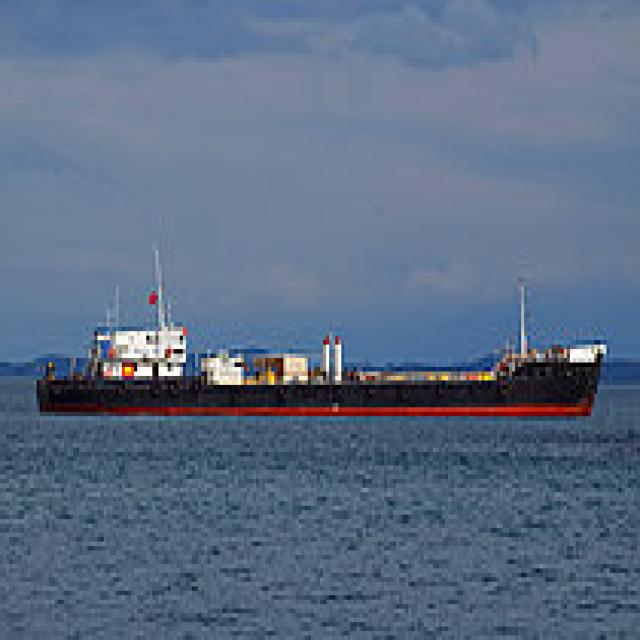Tanker: (33, 237, 612, 421)
